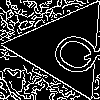Q: (39, 23, 100, 82)
